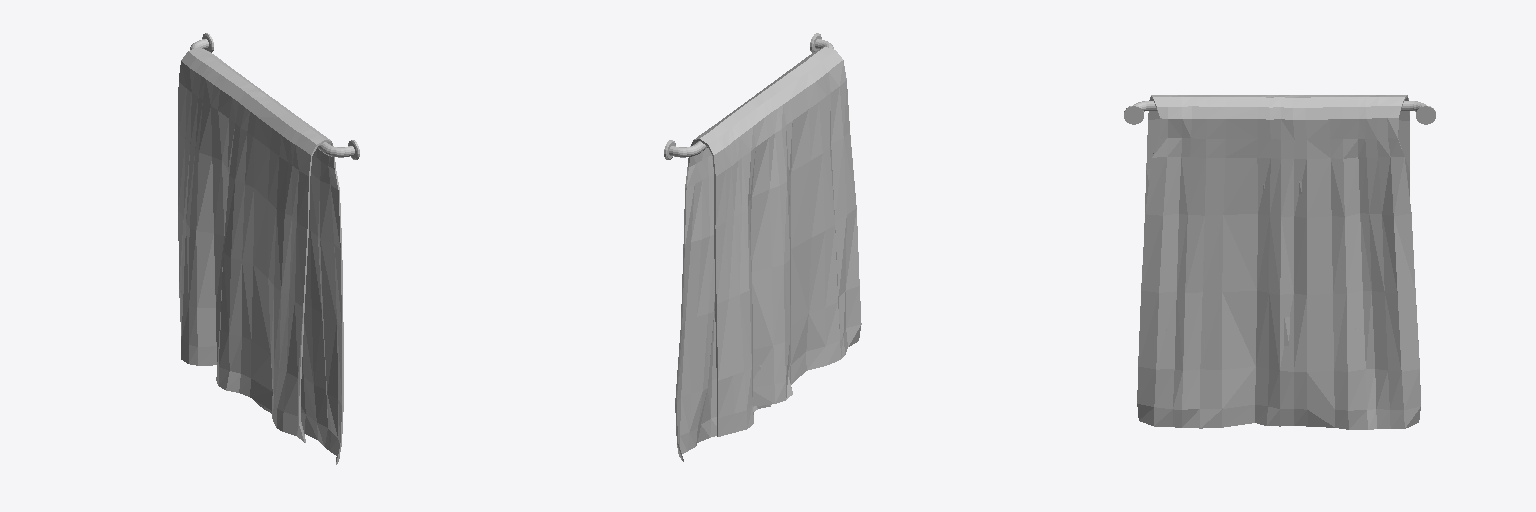
The model's file is Towel.obj.
3 renders of one model, left to right at view 1: azimuth 30°, elevation 25°; view 2: azimuth 150°, elevation 25°; view 3: azimuth 270°, elevation 25°, orthographic.
Visible parts, largest first — view 1: SM_TowelRack; view 2: SM_TowelRack; view 3: SM_TowelRack.
Boxes of the visible parts, x1=… form: SM_TowelRack: x1=178, y1=33, x2=359, y2=464; SM_TowelRack: x1=664, y1=33, x2=861, y2=461; SM_TowelRack: x1=1124, y1=95, x2=1435, y2=429.
Size of the model in its own units: 0.1236 by 0.6877 by 0.5997.